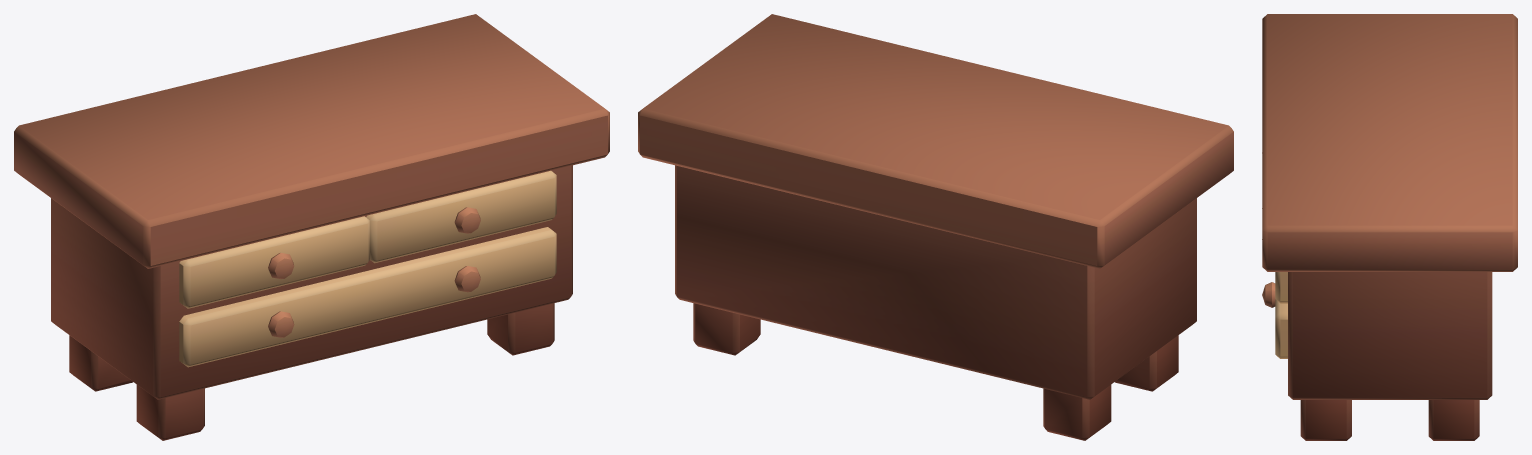
The model's file is cabinet-medium.glb.
The picture shows the model from 3 angles, left to right: view 1: azimuth 30°, elevation 25°; view 2: azimuth 150°, elevation 25°; view 3: azimuth 270°, elevation 25°; orthographic projection. The views are drawn at different scales.
Visible parts, largest first — view 1: cabinet_medium; view 2: cabinet_medium; view 3: cabinet_medium.
Boxes of the visible parts, <box> form: cabinet_medium: <box>14,14,609,440</box>; cabinet_medium: <box>638,14,1233,440</box>; cabinet_medium: <box>1262,14,1517,440</box>.
Bounding box in the file's own units: 2 × 1 × 1.
1 material, 1 textured.
